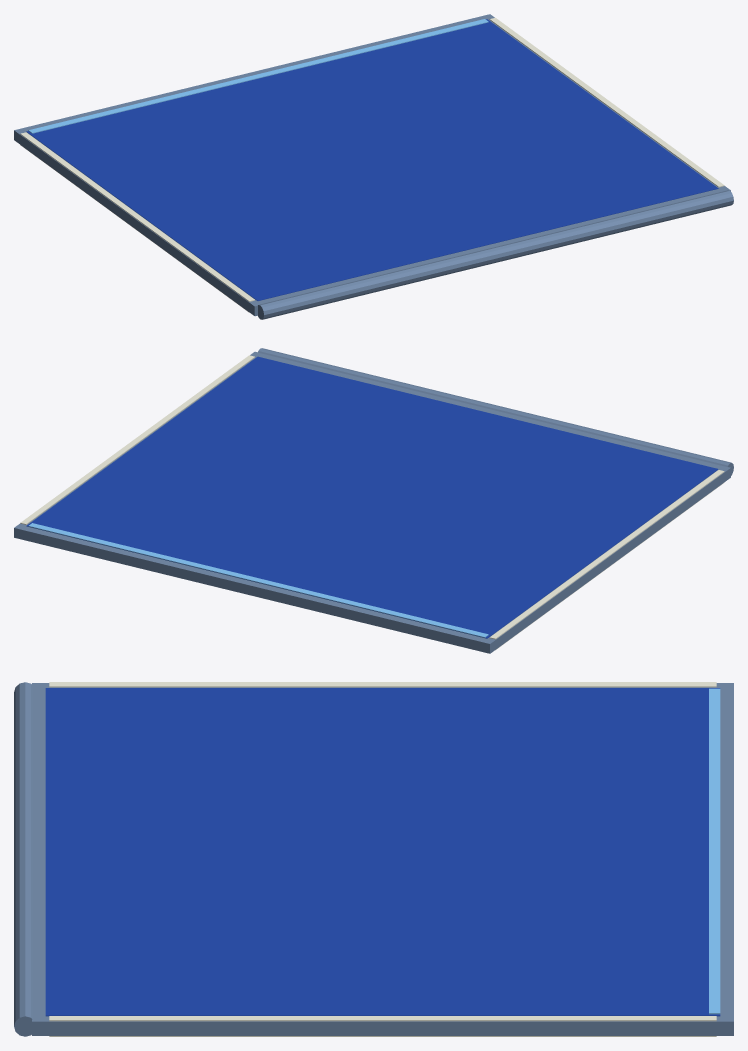
File: jump_flip_pair_panel.obj
3 renders of one model, top to bottom at view 1: azimuth 30°, elevation 25°; view 2: azimuth 150°, elevation 25°; view 3: azimuth 270°, elevation 25°, orthographic. The views are drawn at different scales.
Visible parts, largest first — view 1: blue_top, leaf_hinge, reversible_leaf, blue_side_trim, blue_end_bar; view 2: blue_top, reversible_leaf, blue_side_trim, leaf_hinge, blue_end_bar; view 3: blue_top, reversible_leaf, blue_side_trim, leaf_hinge, blue_end_bar, red_side_trim.
Boxes of the visible parts, x1,y1,x2,y2 form: blue_top: (26, 19, 718, 300); leaf_hinge: (258, 190, 733, 319); reversible_leaf: (14, 14, 730, 316); blue_side_trim: (20, 17, 724, 301); blue_end_bar: (28, 19, 488, 133); blue_top: (26, 356, 718, 638); reversible_leaf: (14, 351, 730, 653); blue_side_trim: (20, 355, 724, 639); leaf_hinge: (257, 348, 733, 475); blue_end_bar: (28, 523, 488, 637); blue_top: (45, 688, 720, 1016); reversible_leaf: (32, 683, 733, 1035); blue_side_trim: (49, 682, 716, 1021); leaf_hinge: (14, 682, 32, 1036); blue_end_bar: (709, 688, 720, 1014); red_side_trim: (49, 1036, 716, 1036).
Size of the model in its own units: 10.64 by 0.3 by 9.56.
